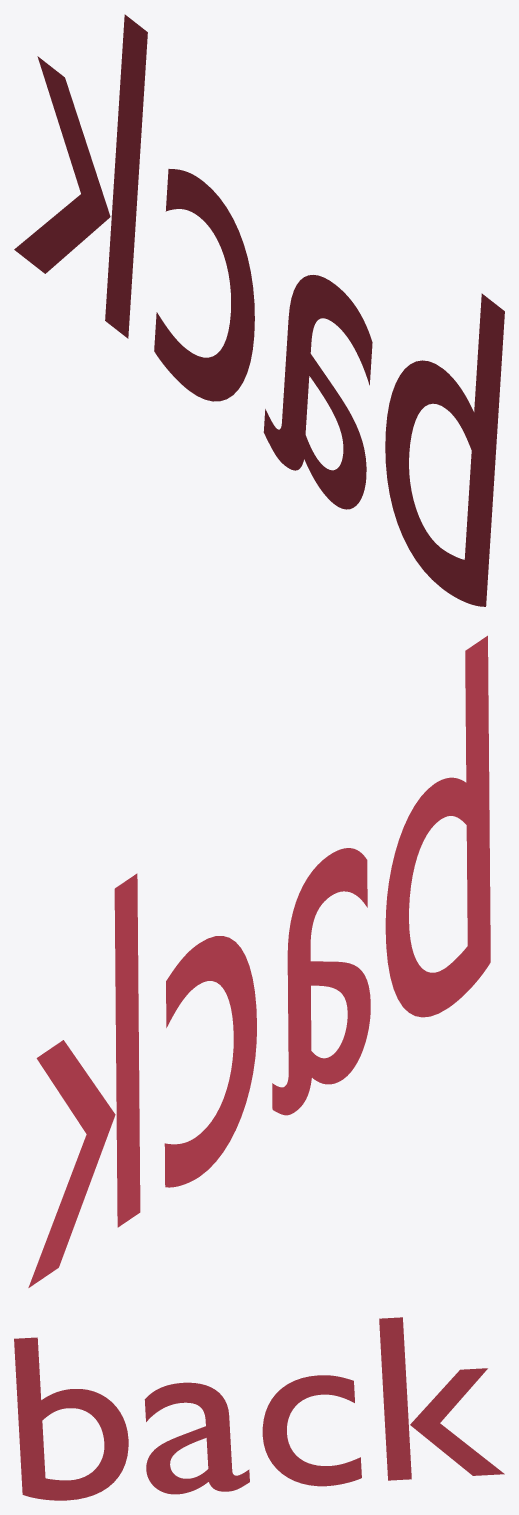
Rendered from back.glb.
The picture shows the model from 3 angles, top to bottom: view 1: azimuth 30°, elevation 25°; view 2: azimuth 150°, elevation 25°; view 3: azimuth 270°, elevation 25°; orthographic projection. The views are drawn at different scales.
Visible parts, largest first — view 1: Text.003; view 2: Text.003; view 3: Text.003.
Part boxes in pixels (<box>): Text.003: <box>14,14,504,606</box>; Text.003: <box>28,635,490,1287</box>; Text.003: <box>14,1317,504,1500</box>.
Bounding box in the file's own units: 0.0215 × 0.2403 × 0.5849.
